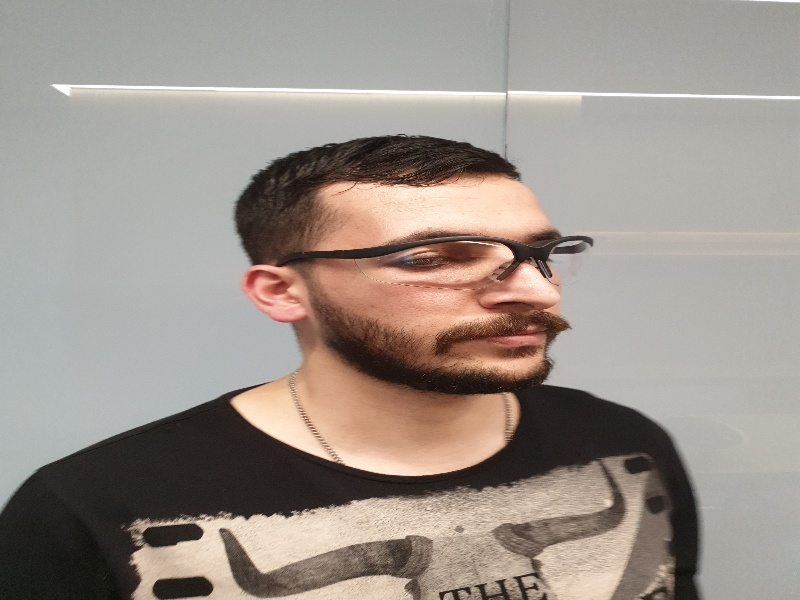Gozluk: (256, 233, 599, 292)
